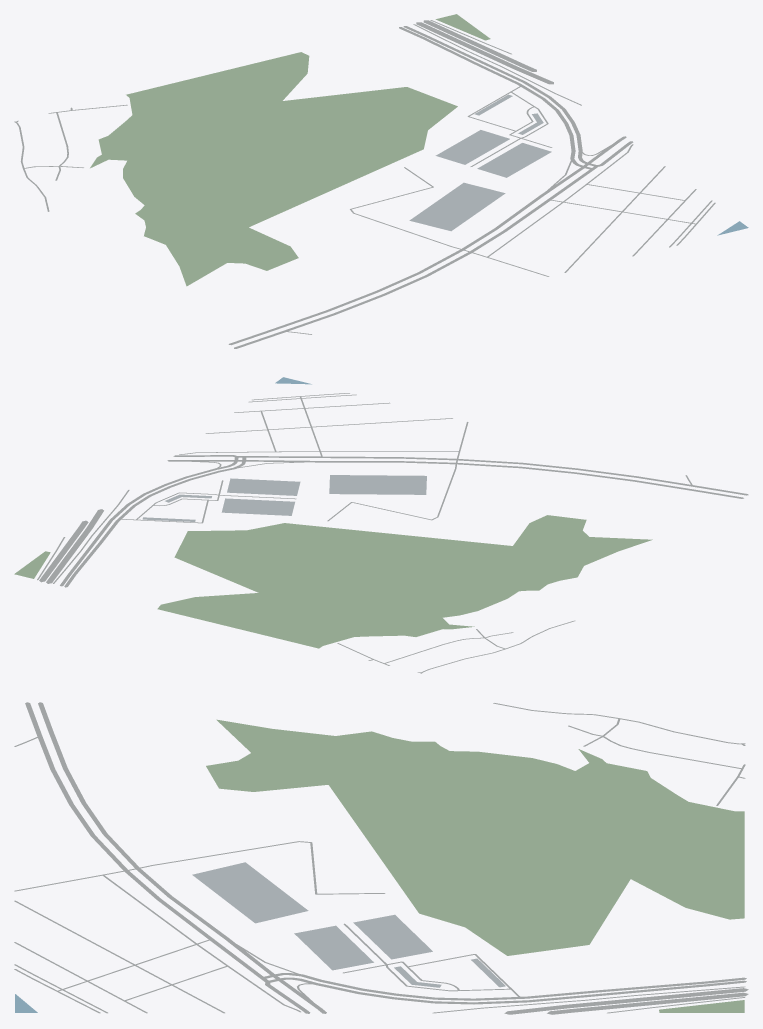
File: -15_15-known-fine.glb
3 views of the same model, one above another, from view 1: azimuth 30°, elevation 25°; view 2: azimuth 150°, elevation 25°; view 3: azimuth 270°, elevation 25° (orthographic). The views are drawn at different scales.
Size of the model in its own units: 1009 by 0.15 by 1002.
